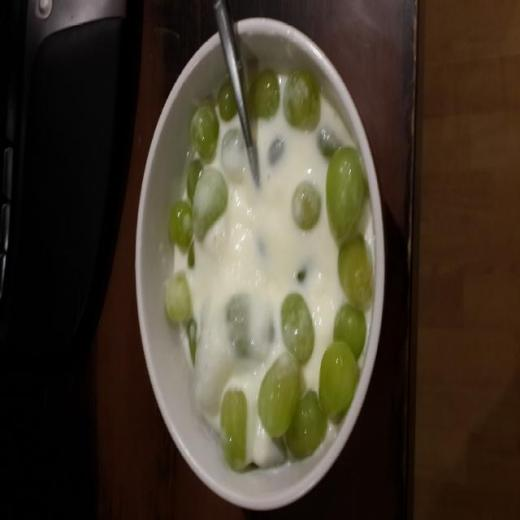Orange: (258, 351, 305, 438), (326, 146, 366, 247), (318, 340, 360, 427), (224, 293, 272, 364), (189, 167, 229, 245), (284, 388, 326, 462), (219, 385, 250, 471), (280, 293, 316, 367), (337, 236, 374, 308), (283, 68, 321, 135), (169, 202, 198, 271), (332, 303, 366, 360), (190, 103, 220, 166), (249, 71, 281, 122), (290, 182, 324, 227), (167, 276, 195, 329), (221, 125, 245, 182), (215, 80, 238, 122), (314, 126, 340, 161), (188, 159, 200, 212), (269, 142, 287, 173), (189, 320, 199, 372)
